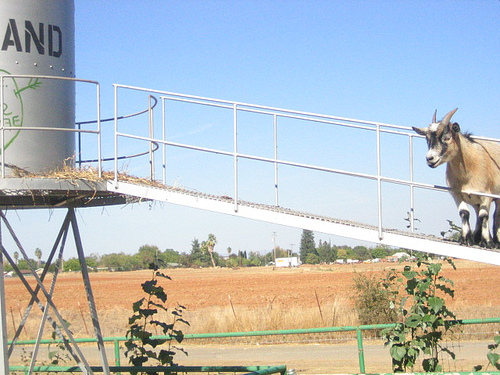goat: (412, 107, 500, 251)
